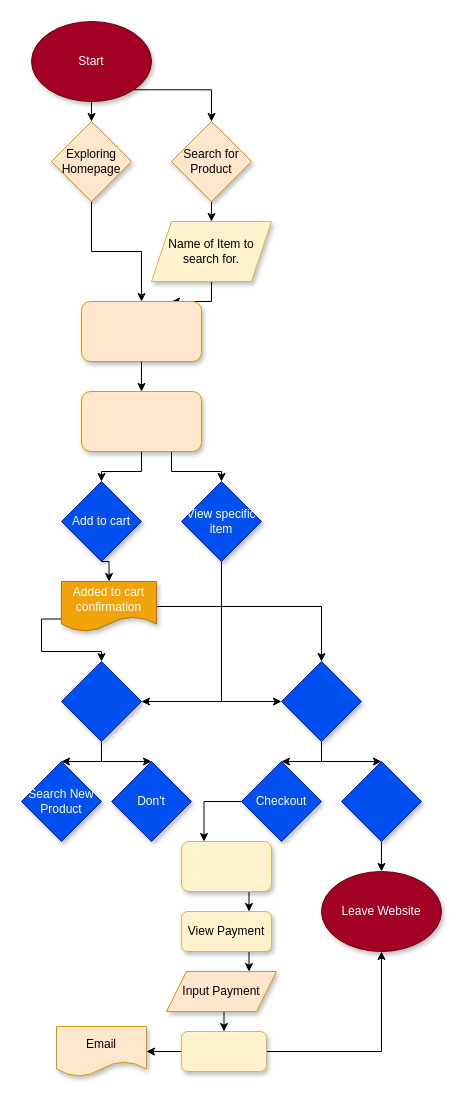
Some shapes in this 465 by 1101 pixel diagram are drawn without their labels. The centre of each missing label's shape, as x and y in pixels:
Continue Shopping: pixel 102 702
Don't Checkout: pixel 382 802
Don't Continue Shopping: pixel 322 702
Order Confirmation: pixel 224 1052
User looking over products: pixel 142 332
View Cart: pixel 227 867
Viewing specific product: pixel 142 422
